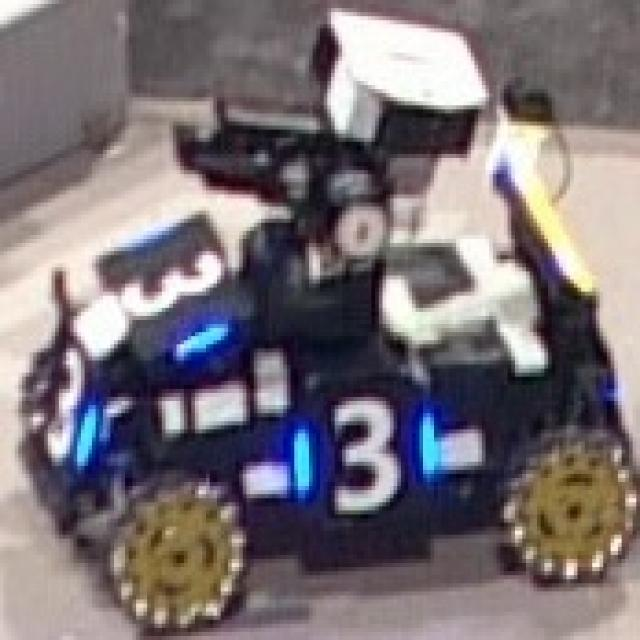B3: (99, 210, 239, 356), (291, 389, 434, 506), (18, 316, 103, 470)
